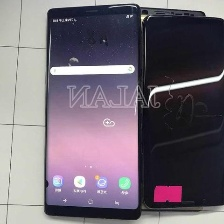phone: (40, 0, 145, 223), (137, 10, 224, 213)
